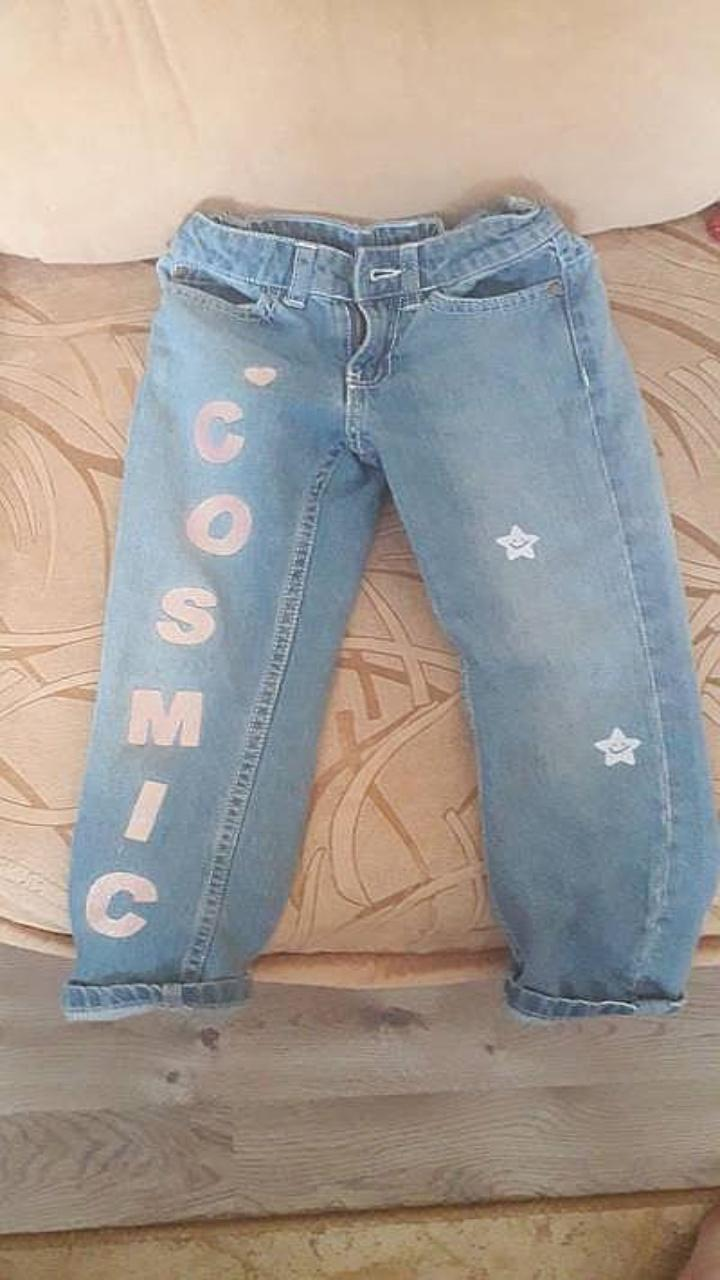Jeans: (62, 196, 717, 1018)
